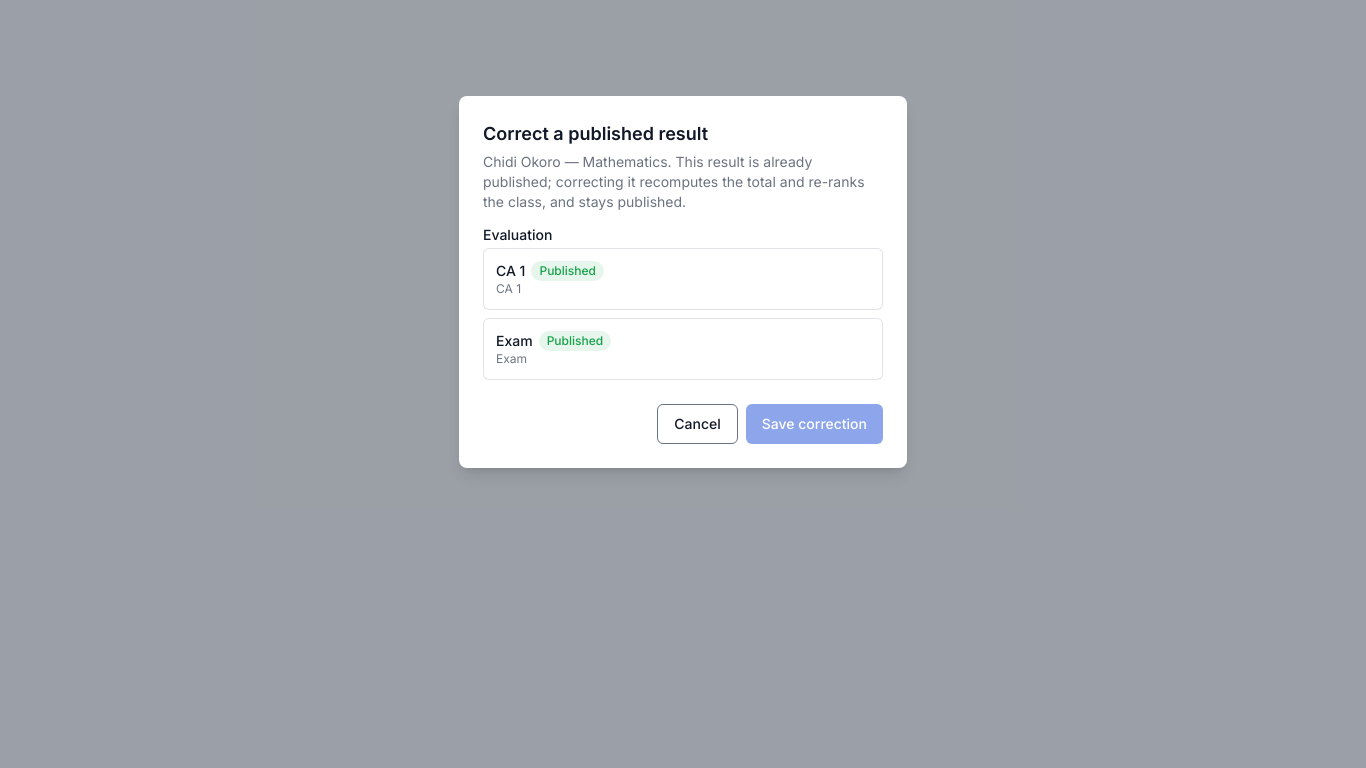
it: MarkAbsentDialog › picking an evaluation loads and prefills the student's current value
Expected: the text "Chidi Okoro — Mathematics" is shown, [483,152,883,212]
Click the button "Exam Published Exam" at coordinates (514, 340), box [483,318,883,380]
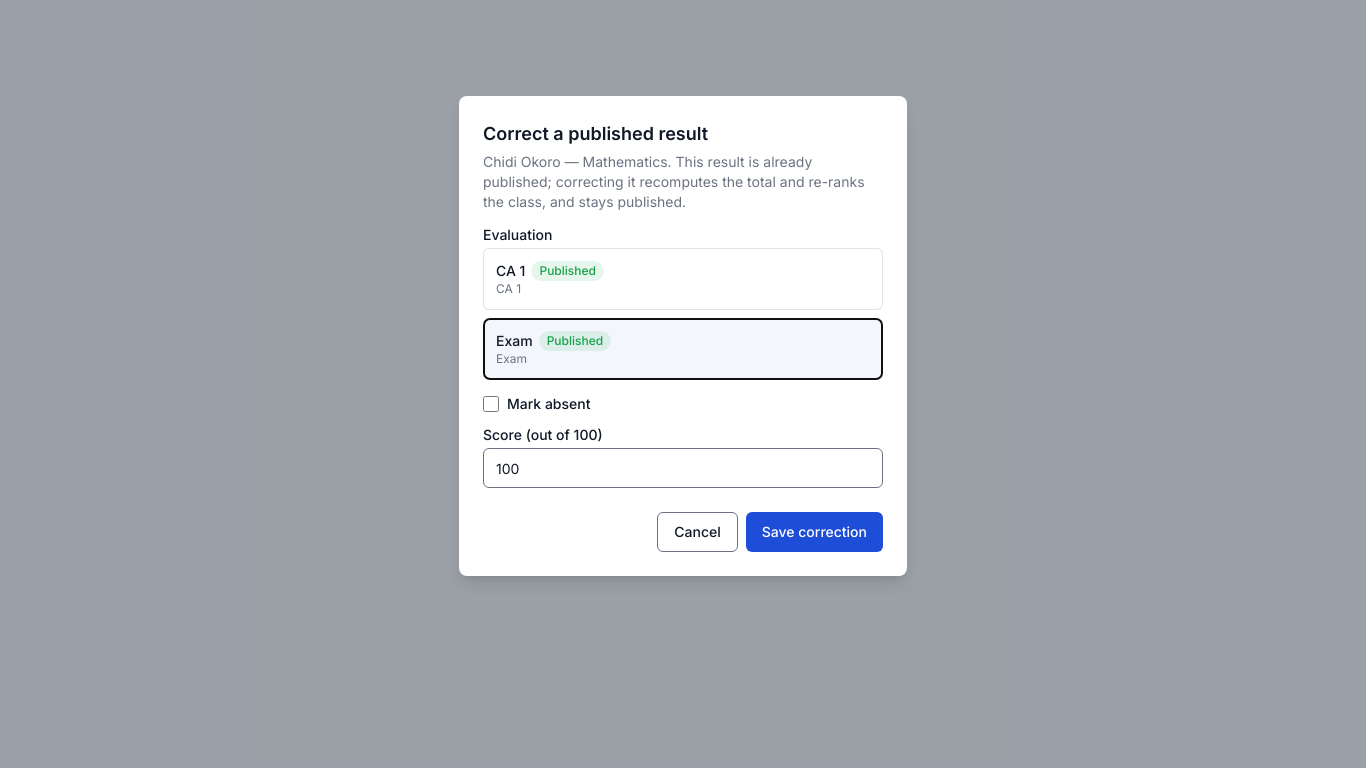
Expected: the field labelled "Score (out of 100)" holds "100", [483,448,883,488]
Expected: the checkbox labelled "Mark absent" is not checked, [483,396,499,412]
